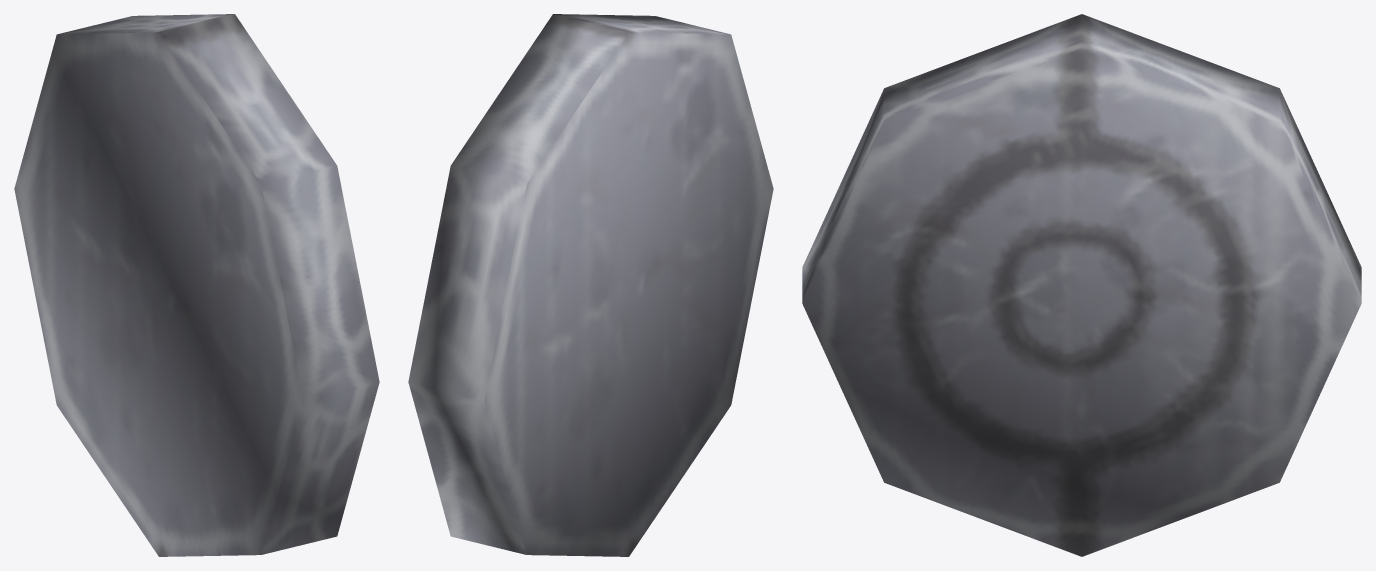
The model's file is Asset_Bouton_01.fbx.
The picture shows the model from 3 angles, left to right: view 1: azimuth 30°, elevation 25°; view 2: azimuth 150°, elevation 25°; view 3: azimuth 270°, elevation 25°; orthographic projection. The views are drawn at different scales.
Parts seen in each view (by area): view 1: Asset_Bouton_01; view 2: Asset_Bouton_01; view 3: Asset_Bouton_01.
Part boxes in pixels (x1,y1,x2,y2): Asset_Bouton_01: (14,14,379,556); Asset_Bouton_01: (408,14,773,556); Asset_Bouton_01: (802,14,1361,556).
Size of the model in its own units: 18.06 by 119 by 119.
